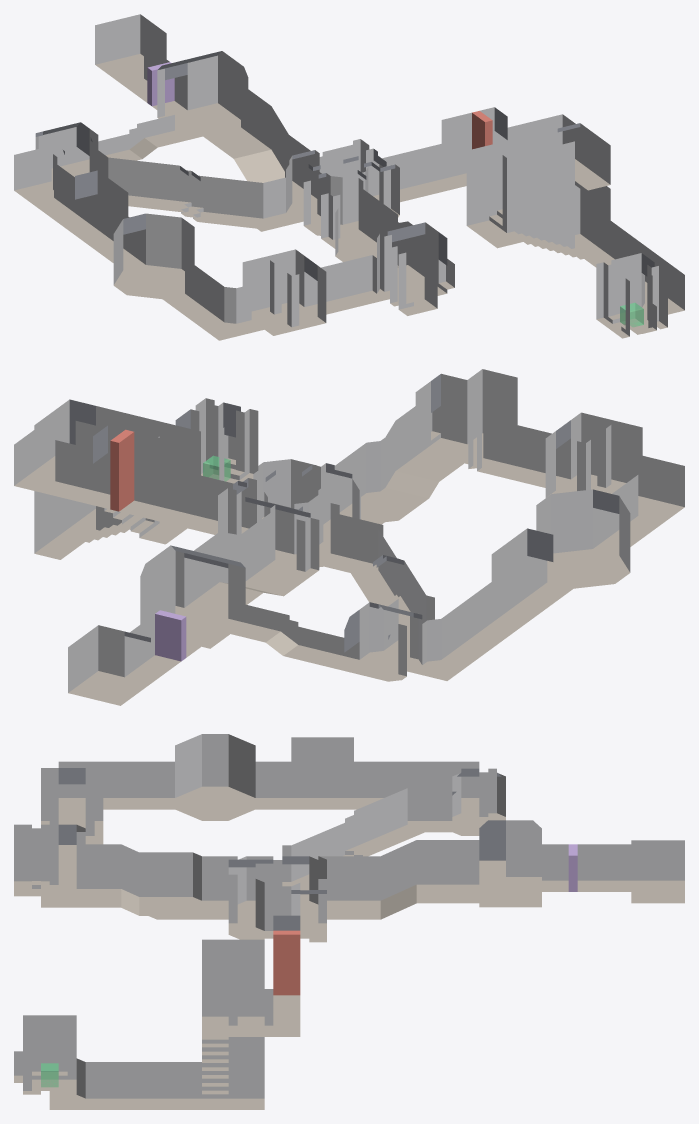
File: deeplab_08.glb
3 views of the same model, one above another, from view 1: azimuth 30°, elevation 25°; view 2: azimuth 150°, elevation 25°; view 3: azimuth 270°, elevation 25° (orthographic). The views are drawn at different scales.
Parts seen in each view (by area): view 1: corridor:7, room:6, corridor:3, corridor:1, corridor:2, room:3, room:1, corridor:0, room:5, room:2, room:0, corridor:6/vent (+9 smaller); view 2: corridor:7, corridor:1, room:6, corridor:0, corridor:2, room:0, corridor:3, room:1, room:3, room:5, corridor:6/vent, entities (+8 smaller); view 3: corridor:7, room:6, corridor:2, corridor:0, corridor:3, corridor:5, room:1, room:3, corridor:4, room:5, room:0, room:2 (+7 smaller).
Boxes of the visible parts, left/top/right/bottom form: corridor:7: left=14, top=147, right=385, bottom=340; room:6: left=466, top=123, right=610, bottom=261; corridor:3: left=95, top=148, right=298, bottom=231; corridor:1: left=373, top=107, right=580, bottom=202; corridor:2: left=203, top=84, right=314, bottom=202; room:3: left=157, top=51, right=248, bottom=139; room:1: left=286, top=139, right=399, bottom=237; corridor:0: left=321, top=189, right=425, bottom=284; room:5: left=95, top=14, right=166, bottom=83; room:2: left=596, top=253, right=667, bottom=338; room:0: left=377, top=222, right=447, bottom=315; corridor:6/vent: left=76, top=115, right=187, bottom=171; corridor:7: left=412, top=412, right=684, bottom=680; corridor:1: left=14, top=425, right=248, bottom=534; room:6: left=34, top=399, right=200, bottom=559; corridor:0: left=326, top=406, right=458, bottom=524; corridor:2: left=184, top=513, right=319, bottom=618; room:0: left=415, top=369, right=517, bottom=468; corridor:3: left=325, top=514, right=434, bottom=657; room:1: left=218, top=459, right=359, bottom=569; room:3: left=140, top=545, right=245, bottom=648; room:5: left=68, top=625, right=150, bottom=705; corridor:6/vent: left=231, top=604, right=359, bottom=670; entities: left=110, top=429, right=230, bottom=661; corridor:7: left=41, top=734, right=479, bottom=881; room:6: left=202, top=939, right=264, bottom=1109; corridor:2: left=320, top=840, right=479, bottom=919; corridor:0: left=85, top=844, right=237, bottom=919; corridor:3: left=282, top=784, right=452, bottom=900; corridor:5: left=49, top=1058, right=201, bottom=1109; room:1: left=228, top=856, right=326, bottom=942; room:3: left=479, top=820, right=541, bottom=907; corridor:4: left=542, top=844, right=631, bottom=891; room:5: left=631, top=840, right=684, bottom=903; room:0: left=14, top=824, right=85, bottom=907; room:2: left=23, top=1015, right=76, bottom=1094.
Bounding box in the file's own units: 64 × 18 × 75.
